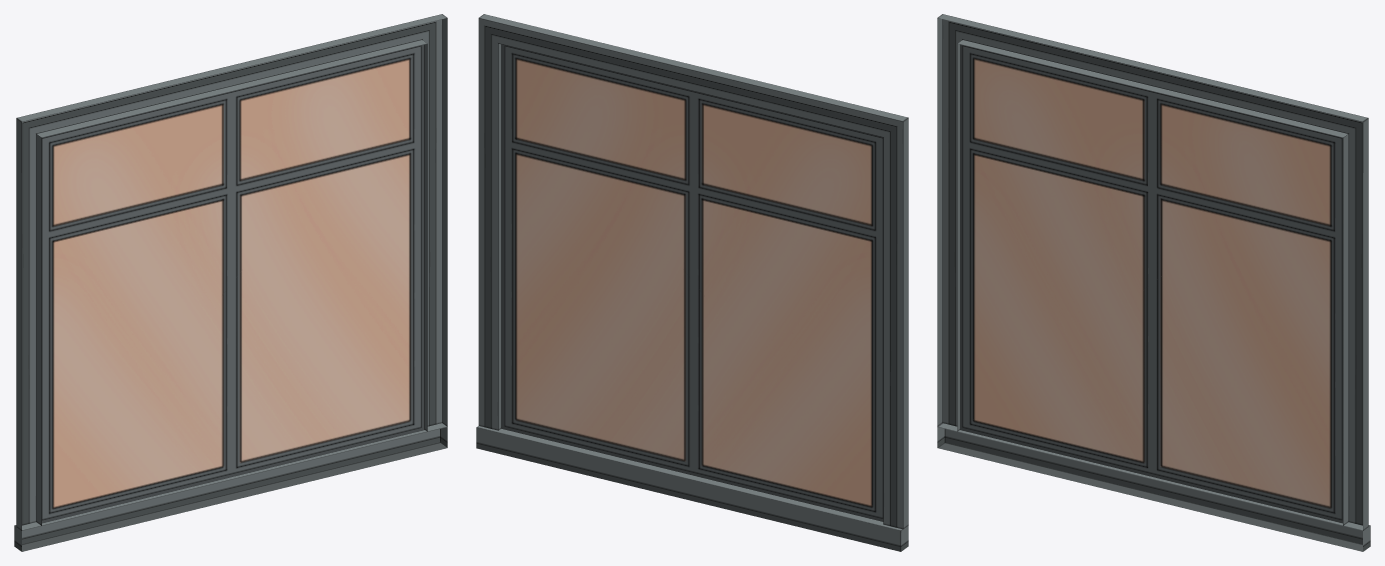
Rendered from window_sundown.fbx.
3 renders of one model, left to right at view 1: azimuth 30°, elevation 25°; view 2: azimuth 150°, elevation 25°; view 3: azimuth 330°, elevation 25°, orthographic.
Parts seen in each view (by area): view 1: polySurface410; view 2: polySurface410; view 3: polySurface410.
Part boxes in pixels (x1,y1,x2,y2): polySurface410: (14,14,447,551); polySurface410: (476,14,908,551); polySurface410: (937,14,1370,551).
Size of the model in its own units: 2.73 by 2.63 by 0.0849.
